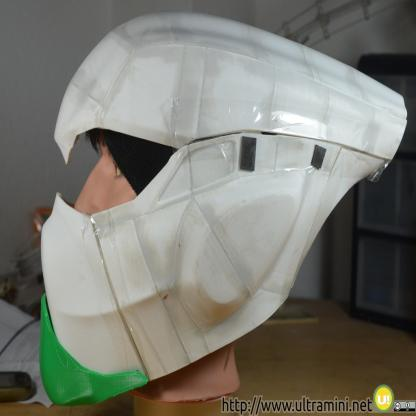Helmet: (43, 13, 397, 401)
